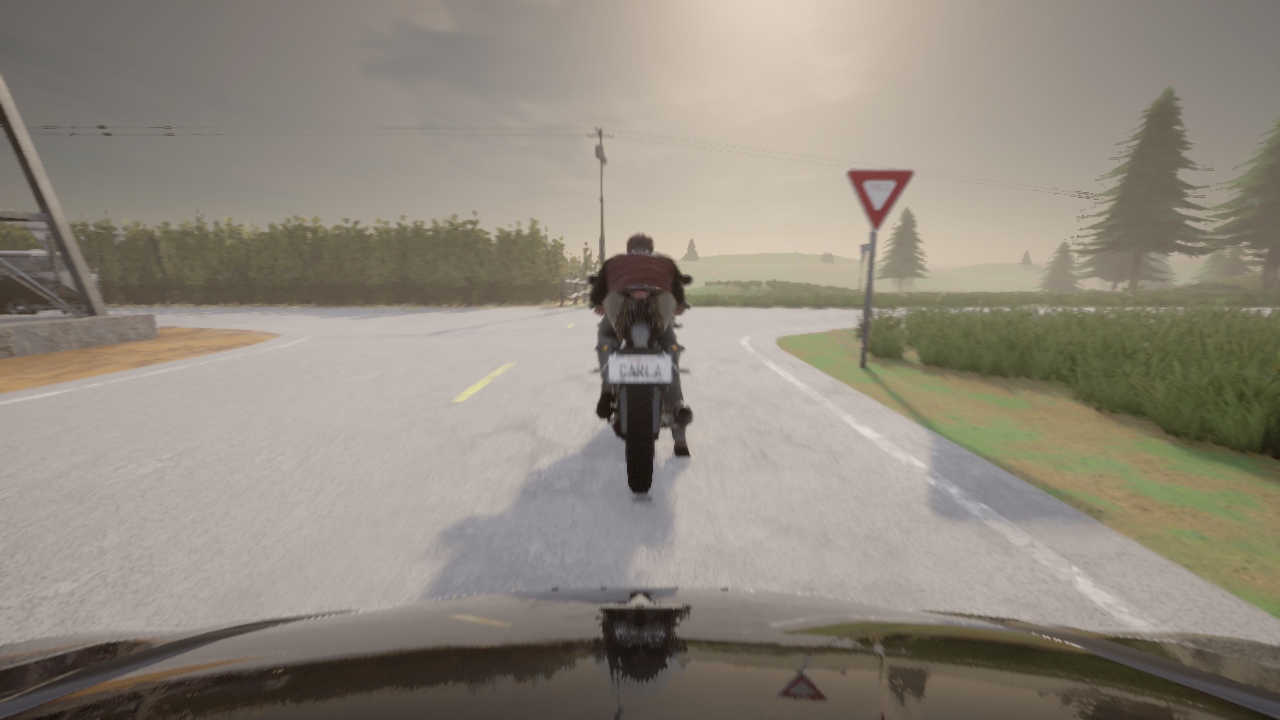cyclist: (0, 588, 1279, 719), (587, 274, 693, 492), (0, 250, 106, 313)
